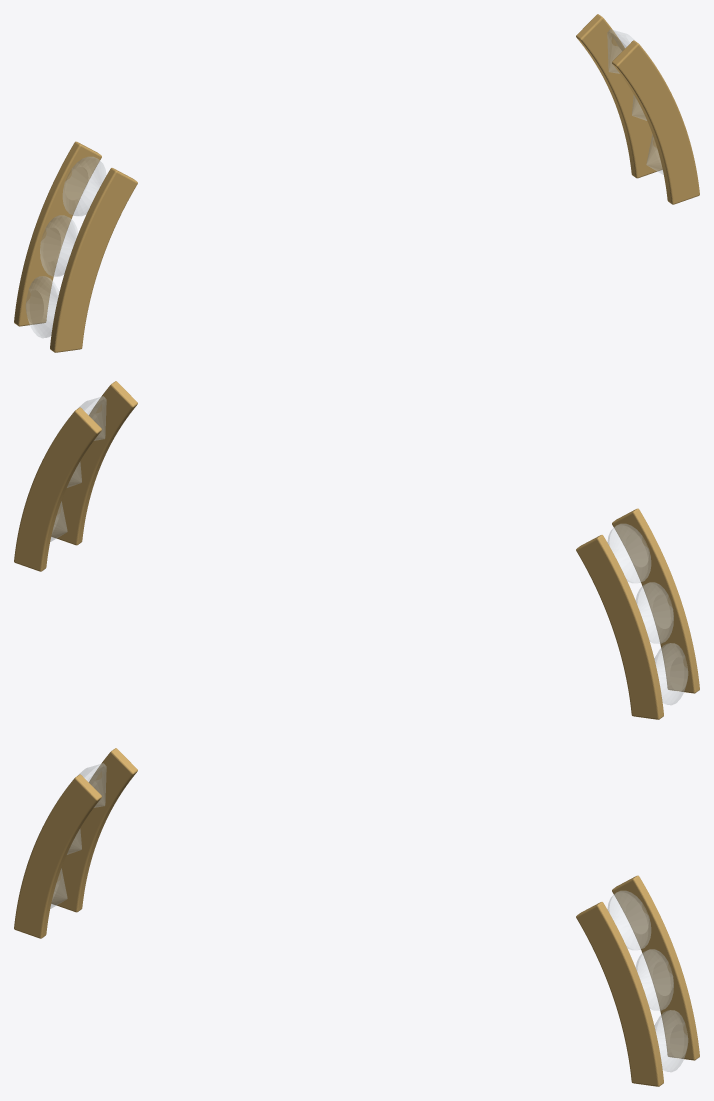
Rendered from accents-channel-wide.glb.
3 views of the same model, one above another, from view 1: azimuth 30°, elevation 25°; view 2: azimuth 150°, elevation 25°; view 3: azimuth 330°, elevation 25° (orthographic).
Visible parts, largest first — view 1: Channel wall, Channel wall.001, Channel wall.002, Channel wall.003, Gem, Gem.001, Gem.002, Gem.003; view 2: Channel wall.001, Channel wall, Channel wall.003, Channel wall.002, Gem, Gem.001, Gem.002, Gem.003; view 3: Channel wall.002, Channel wall.003, Channel wall, Channel wall.001, Gem.003, Gem.004, Gem.005, Gem.
Part boxes in pixels (box(x1,y1,x2,y2)): Channel wall: box(50, 168, 137, 352); Channel wall.001: box(14, 141, 101, 326); Channel wall.002: box(612, 40, 699, 204); Channel wall.003: box(576, 14, 662, 178); Gem: box(63, 157, 106, 215); Gem.001: box(40, 215, 77, 276); Gem.002: box(26, 276, 59, 337); Gem.003: box(607, 29, 634, 73); Channel wall.001: box(576, 535, 663, 719); Channel wall: box(612, 508, 699, 693); Channel wall.003: box(14, 407, 101, 571); Channel wall.002: box(51, 381, 137, 545); Gem: box(607, 524, 650, 582); Gem.001: box(636, 582, 673, 643); Gem.002: box(654, 643, 687, 704); Gem.003: box(79, 396, 106, 440); Channel wall.002: box(576, 902, 663, 1086); Channel wall.003: box(612, 875, 699, 1060); Channel wall: box(14, 774, 101, 938); Channel wall.001: box(51, 748, 137, 912); Gem.003: box(607, 891, 650, 949); Gem.004: box(636, 949, 673, 1010); Gem.005: box(654, 1010, 687, 1071); Gem: box(79, 763, 106, 807).
Bounding box in the file's own units: 19.8 × 4.94 × 2.19.
